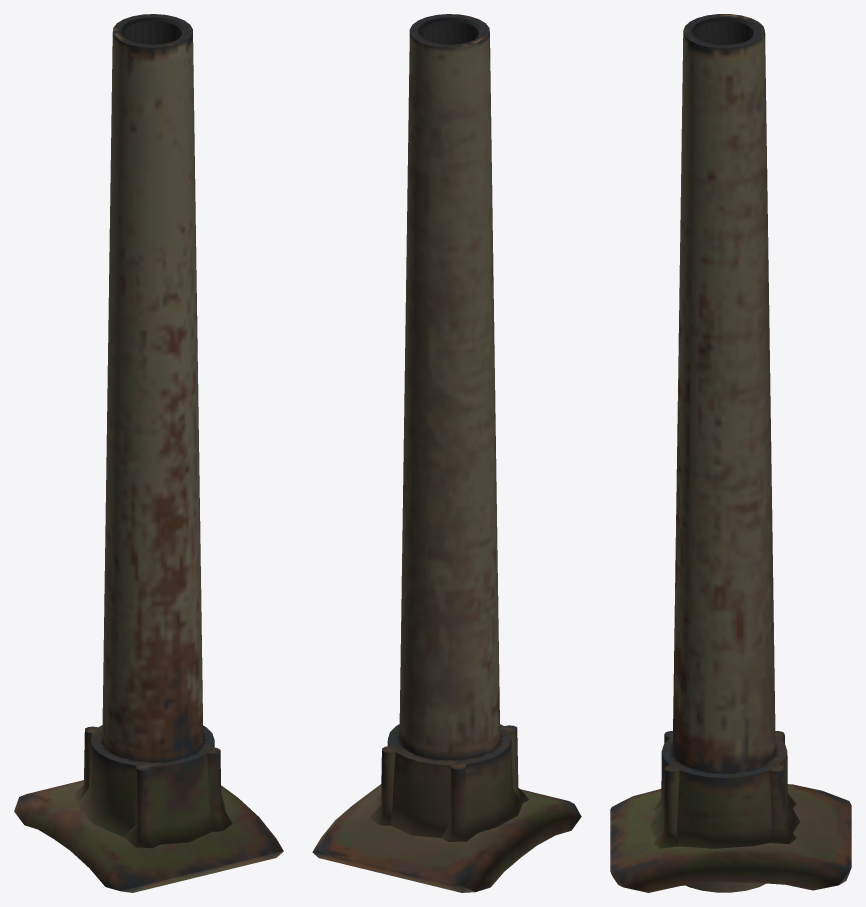
The model's file is Gun_01.glb.
3 views of the same model, side by side, from view 1: azimuth 30°, elevation 25°; view 2: azimuth 150°, elevation 25°; view 3: azimuth 270°, elevation 25° (orthographic).
Visible parts, largest first — view 1: set_0_group_0; view 2: set_0_group_0; view 3: set_0_group_0.
Part boxes in pixels (left/top/right/bottom): set_0_group_0: left=14, top=14, right=283, bottom=892; set_0_group_0: left=312, top=14, right=581, bottom=892; set_0_group_0: left=610, top=14, right=851, bottom=892.
Size of the model in its own units: 0.3274 by 1.54 by 0.4004.
1 material, 1 textured.
